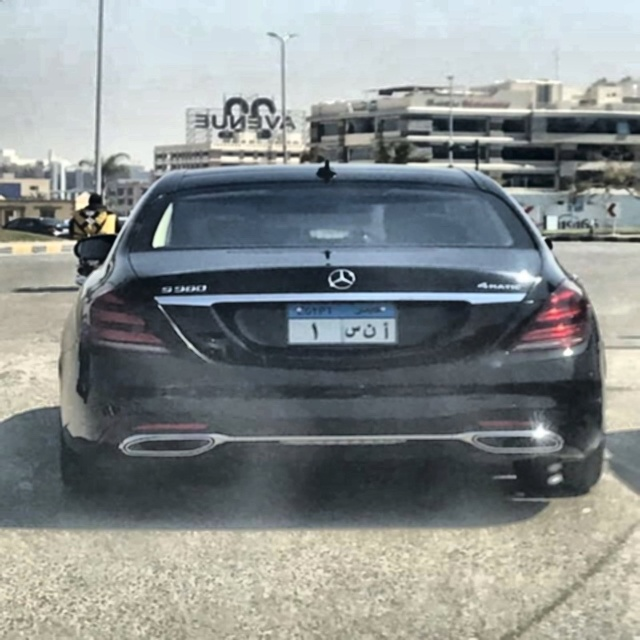License Plate: (285, 303, 400, 346)
